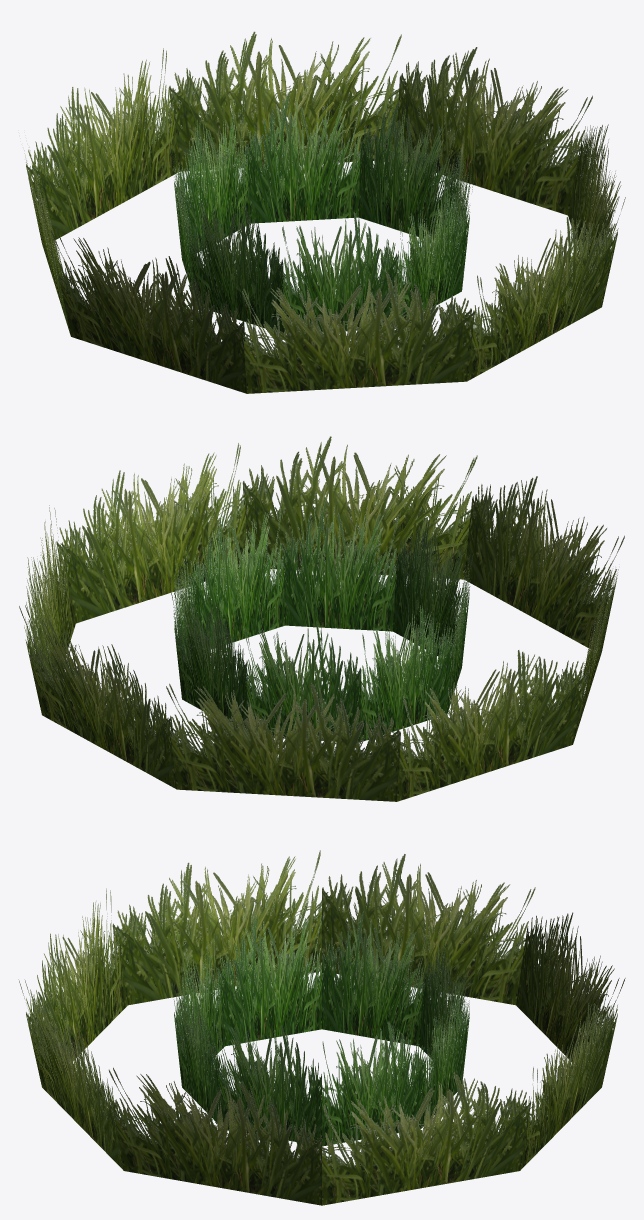
File: Grass.fbx
The picture shows the model from 3 angles, top to bottom: view 1: azimuth 30°, elevation 25°; view 2: azimuth 150°, elevation 25°; view 3: azimuth 270°, elevation 25°; orthographic projection. The views are drawn at different scales.
Parts seen in each view (by area): view 1: GrassIn1, GrassOut31, GrassOut12, GrassOut11, GrassOut32, GrassIn3, GrassOut42, GrassOut22, GrassIn4, GrassIn2, GrassOut21, GrassOut41; view 2: GrassIn2, GrassOut42, GrassOut21, GrassOut22, GrassOut41, GrassIn4, GrassOut31, GrassOut11, GrassIn3, GrassIn1, GrassOut12, GrassOut32; view 3: GrassOut32, GrassOut21, GrassOut12, GrassOut41, GrassIn3, GrassIn4, GrassIn1, GrassIn2, GrassOut31, GrassOut42, GrassOut22, GrassOut11.
Boxes of the visible parts, <box> form: GrassIn1: <box>245,92,457,241</box>; GrassOut31: <box>242,271,474,393</box>; GrassOut12: <box>397,47,592,215</box>; GrassOut11: <box>169,31,401,171</box>; GrassOut32: <box>51,228,246,393</box>; GrassIn3: <box>186,196,398,334</box>; GrassOut42: <box>26,48,179,239</box>; GrassOut22: <box>467,217,617,381</box>; GrassIn4: <box>170,106,250,292</box>; GrassIn2: <box>395,139,473,326</box>; GrassOut21: <box>568,124,625,270</box>; GrassOut41: <box>24,147,70,334</box>; GrassIn2: <box>189,498,399,650</box>; GrassOut42: <box>166,682,400,801</box>; GrassOut21: <box>56,443,247,623</box>; GrassOut22: <box>242,436,477,579</box>; GrassOut41: <box>397,650,587,801</box>; GrassIn4: <box>244,605,454,742</box>; GrassOut31: <box>464,476,624,647</box>; GrassOut11: <box>19,605,176,789</box>; GrassIn3: <box>393,518,473,712</box>; GrassIn1: <box>170,541,248,732</box>; GrassOut12: <box>24,505,75,680</box>; GrassOut32: <box>573,566,618,742</box>; GrassOut32: <box>112,850,321,1005</box>; GrassOut21: <box>108,1067,321,1205</box>; GrassOut12: <box>322,1072,531,1205</box>; GrassOut41: <box>322,854,535,1005</box>; GrassIn3: <box>174,914,321,1059</box>; GrassIn4: <box>322,911,473,1058</box>; GrassIn1: <box>322,986,469,1146</box>; GrassIn2: <box>170,979,321,1141</box>; GrassOut31: <box>26,888,127,1060</box>; GrassOut42: <box>516,912,625,1062</box>; GrassOut22: <box>18,979,123,1170</box>; GrassOut11: <box>520,1003,617,1170</box>.
Bounding box in the file's own units: 0.0396 × 0.009 × 0.0396.
1 material, 1 textured.
